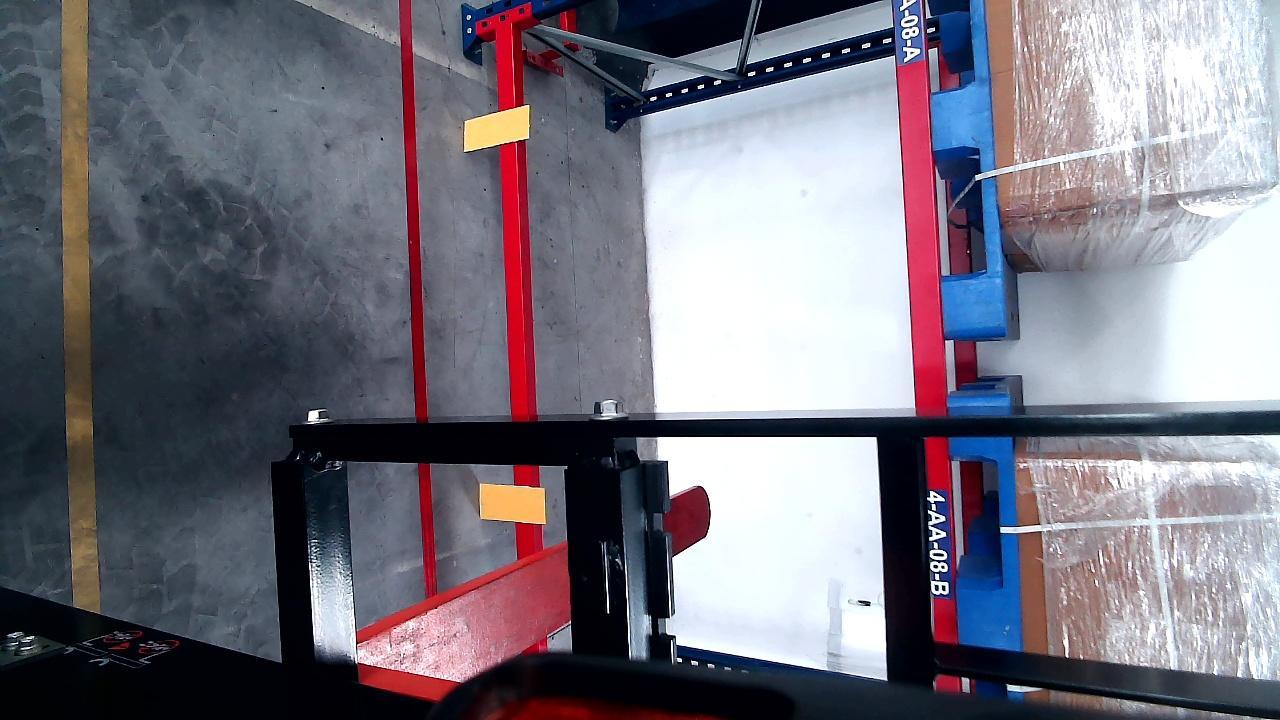red_line: (398, 0, 431, 420)
yellow_line: (59, 0, 99, 611)
